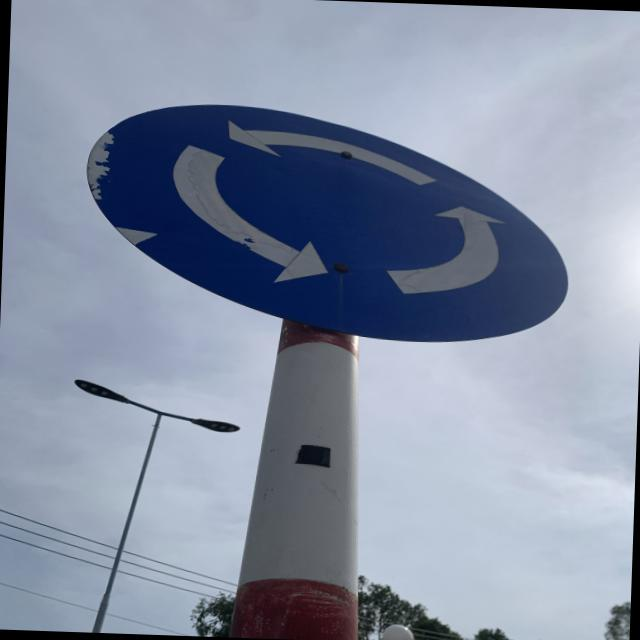Xe_Bus: (82, 96, 572, 344)
